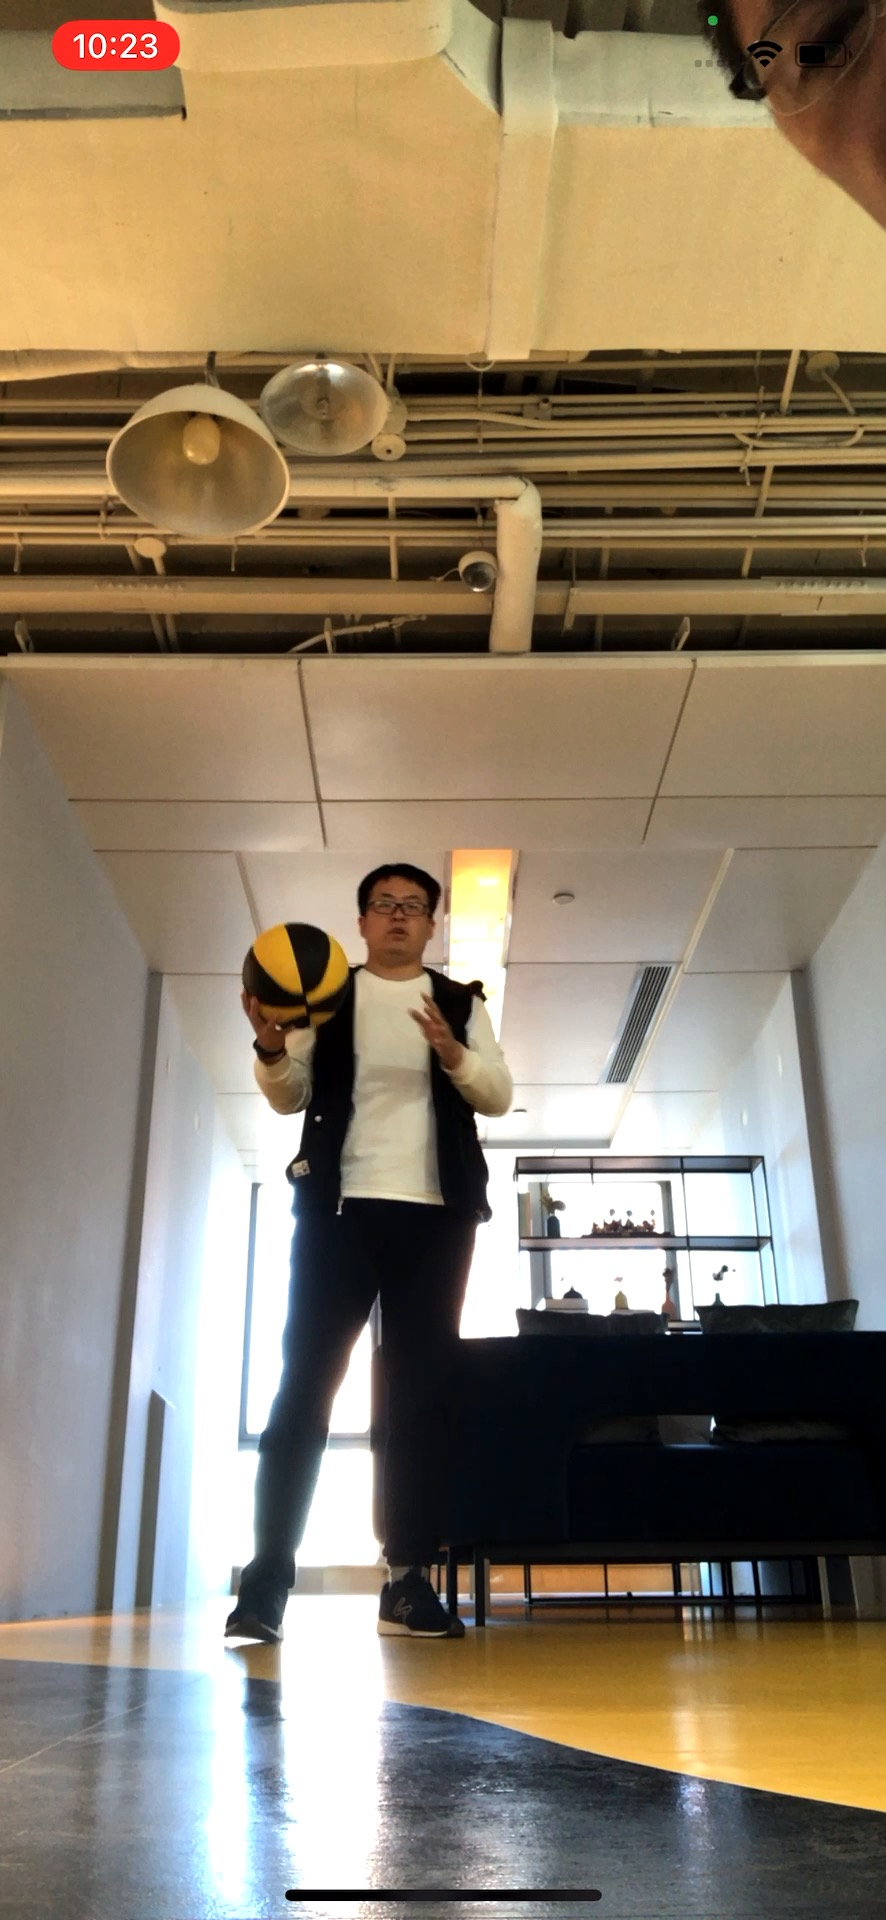ball: (245, 921, 351, 1031)
